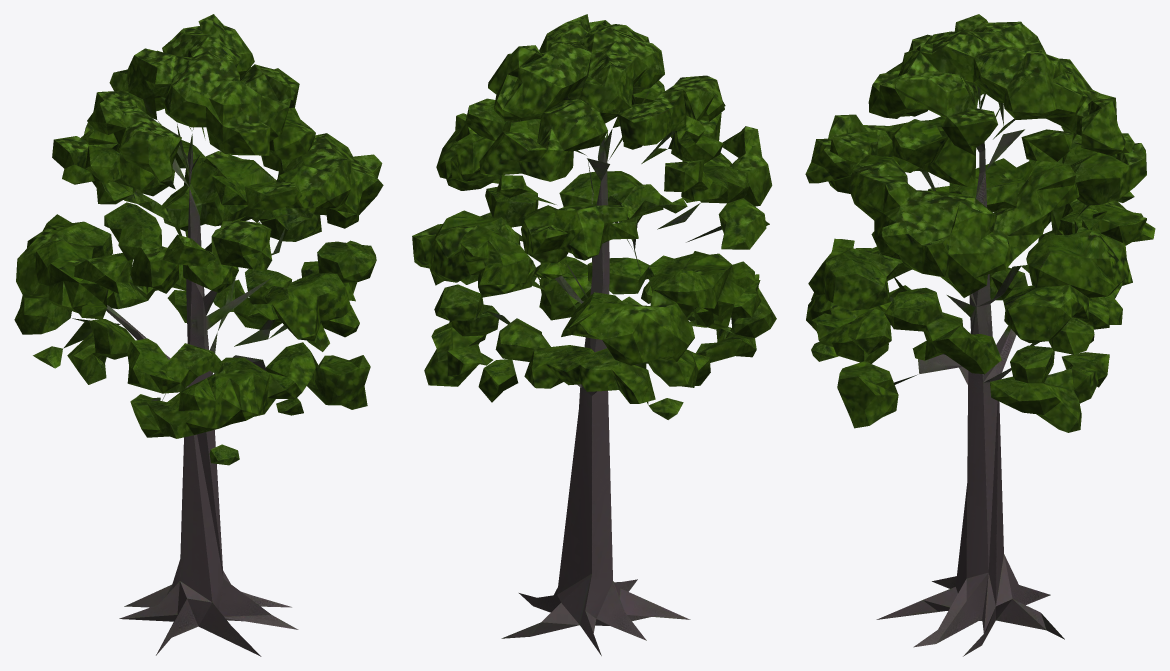
The model's file is tree_leaf.glb.
3 renders of one model, left to right at view 1: azimuth 30°, elevation 25°; view 2: azimuth 150°, elevation 25°; view 3: azimuth 270°, elevation 25°, orthographic. The views are drawn at different scales.
Bounding box in the file's own units: 1.03 × 1.89 × 1.03.
Materials: 1 (1 with a texture image).
